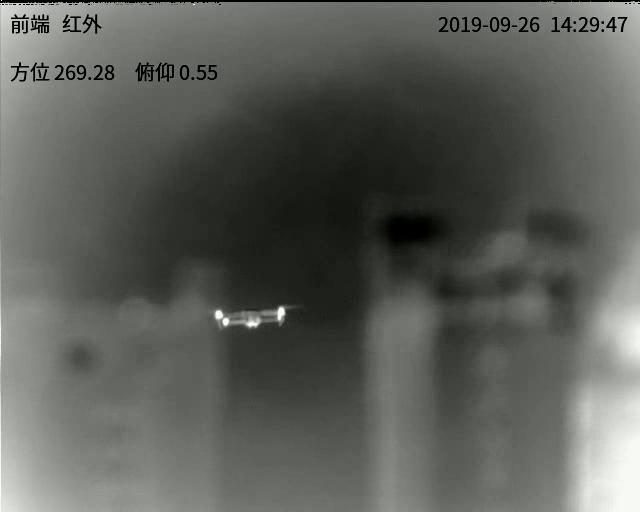DRONE: (214, 304, 289, 331)
